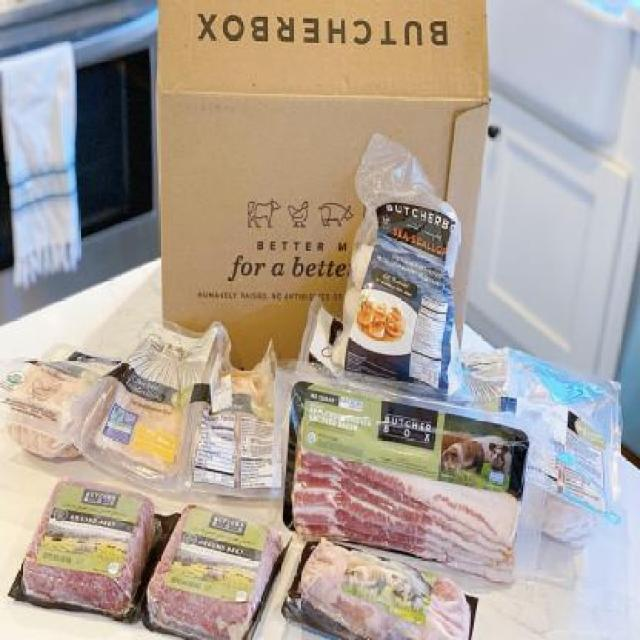box: (155, 0, 493, 378)
